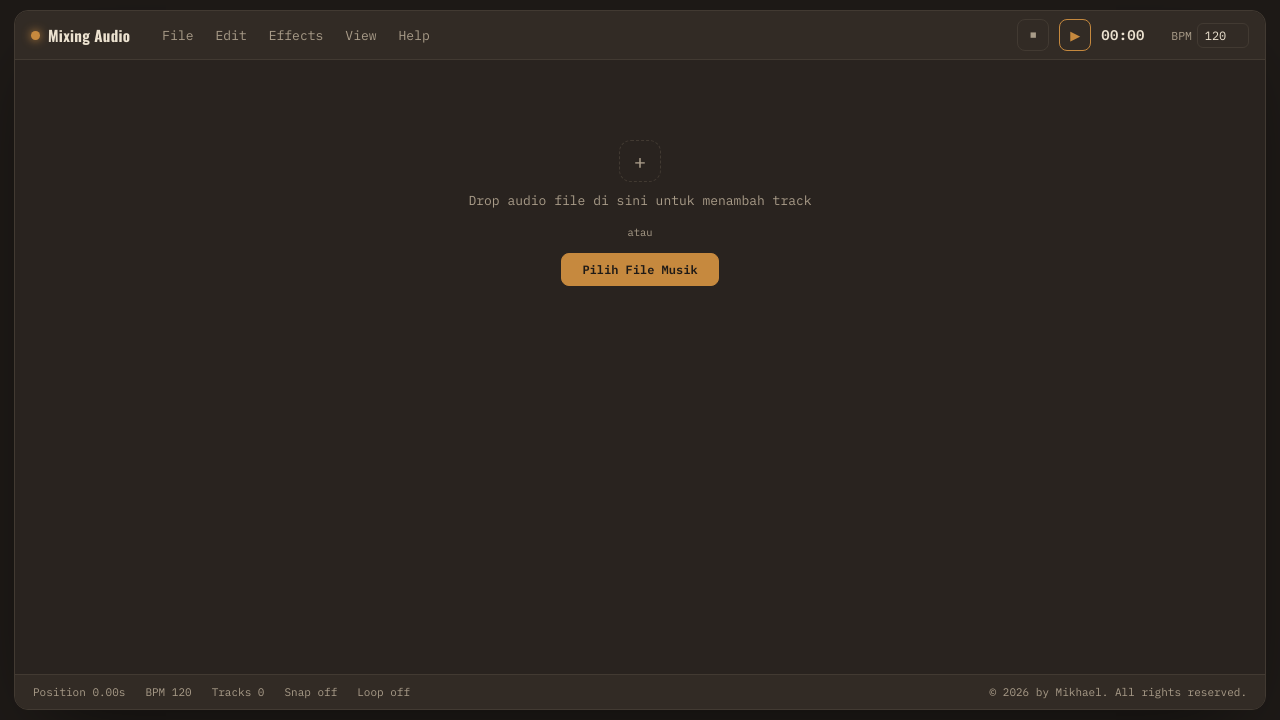
Test case: Mixing Audio — UI & Functional › Edit menu opens and shows Undo/Redo
The image size is (1280, 720).
Click the text "Edit".
click(231, 35)  # box [216, 26, 247, 44]
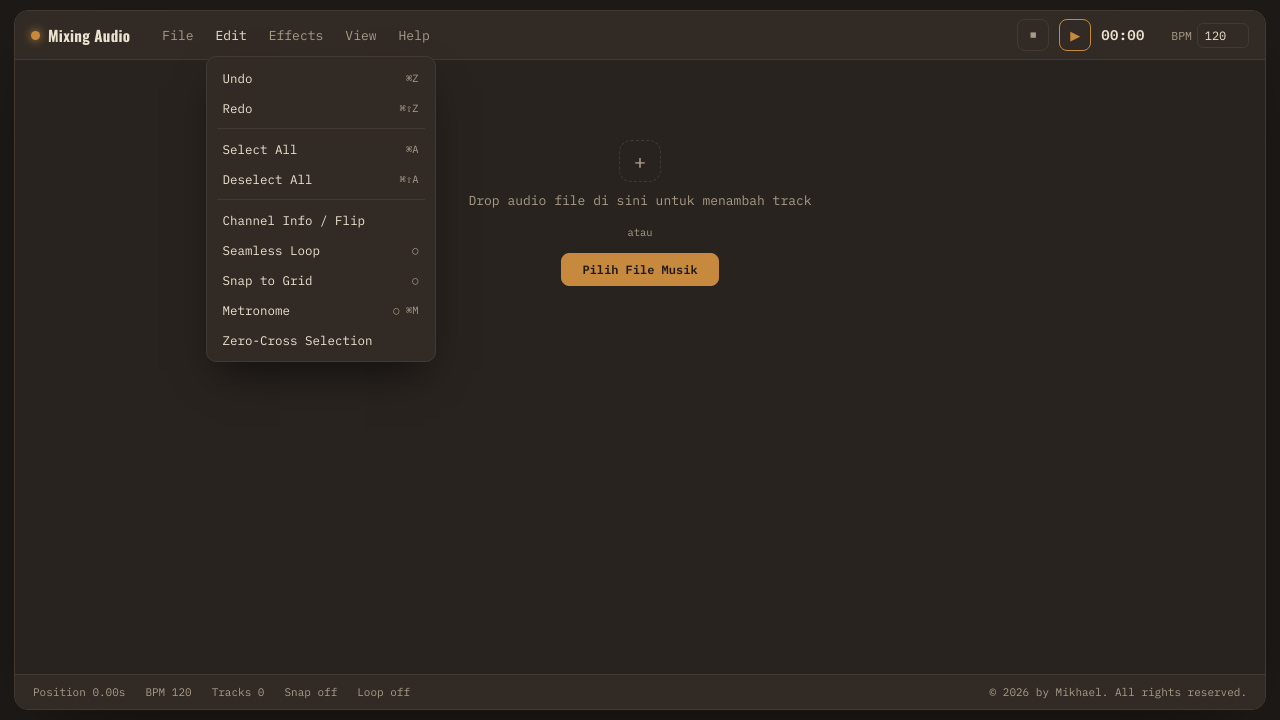
Now the text "Undo" is shown, box [222, 70, 252, 86]
Now the text "Redo" is shown, box [222, 100, 252, 116]
